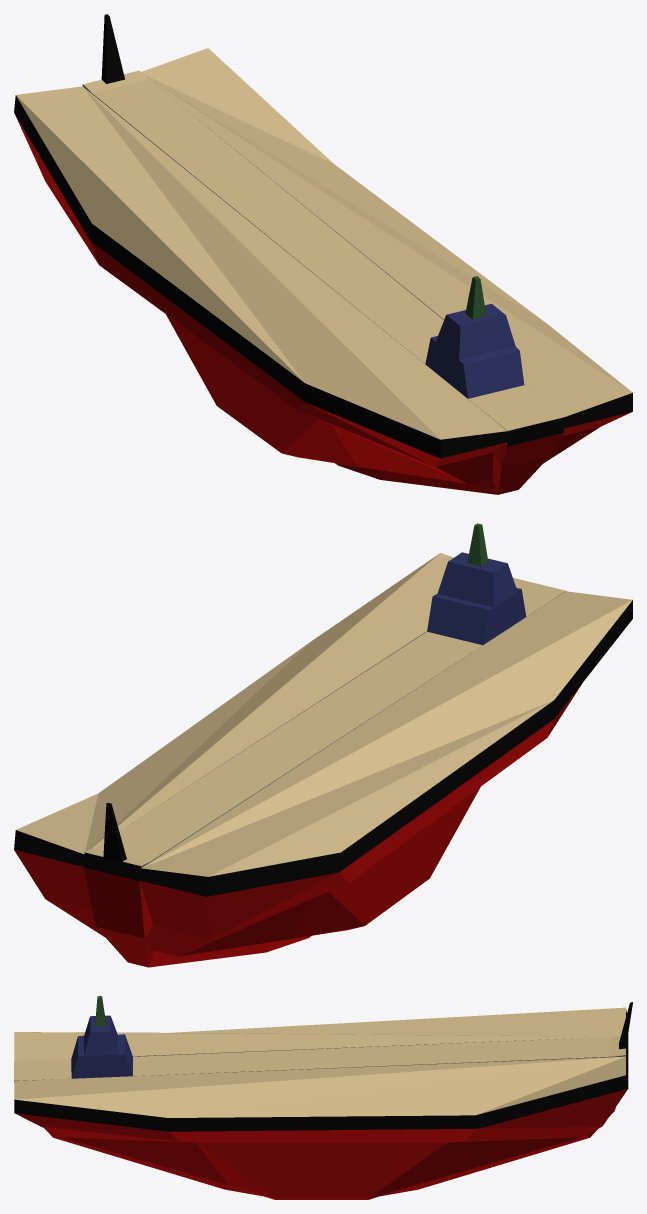
File: Ship.fbx
The picture shows the model from 3 angles, top to bottom: view 1: azimuth 30°, elevation 25°; view 2: azimuth 150°, elevation 25°; view 3: azimuth 270°, elevation 25°; orthographic projection. The views are drawn at different scales.
Visible parts, largest first — view 1: pCube1; view 2: pCube1; view 3: pCube1.
Part boxes in pixels (x1,y1,x2,y2): pCube1: (14,14,632,494); pCube1: (14,523,632,967); pCube1: (14,996,632,1199).
Size of the model in its own units: 1.08 by 1.16 by 3.31.
